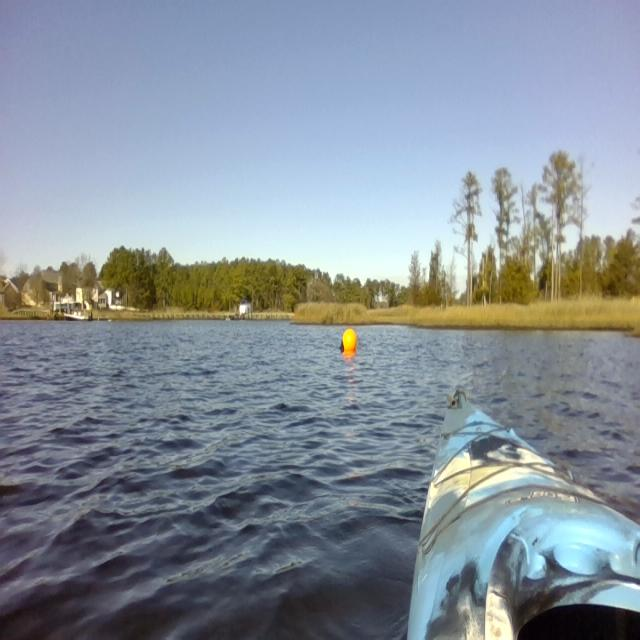Buoy: (334, 324, 360, 363)
